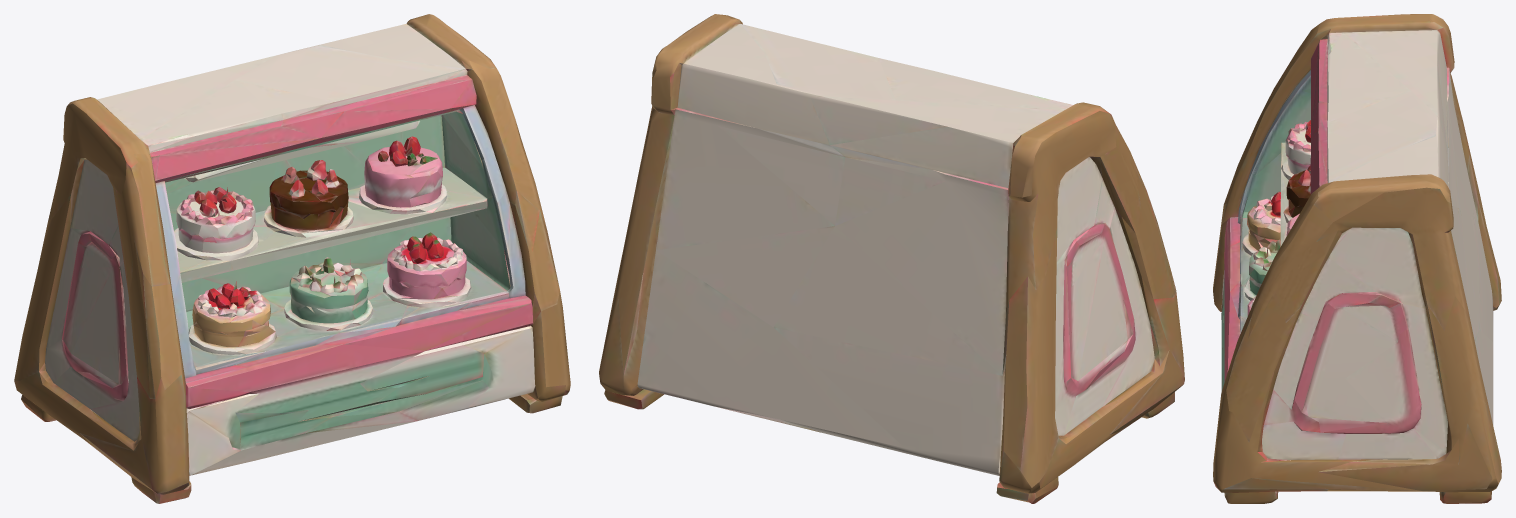
File: cakeCase.glb
3 views of the same model, side by side, from view 1: azimuth 30°, elevation 25°; view 2: azimuth 150°, elevation 25°; view 3: azimuth 270°, elevation 25° (orthographic). The views are drawn at different scales.
Visible parts, largest first — view 1: Mesh_0; view 2: Mesh_0; view 3: Mesh_0.
Part boxes in pixels (x1=…): Mesh_0: x1=14, y1=14, x2=570, y2=503; Mesh_0: x1=599, y1=14, x2=1184, y2=503; Mesh_0: x1=1213, y1=14, x2=1501, y2=503.
Size of the model in its own units: 1.38 by 1.01 by 0.85.
1 material, 1 textured.
